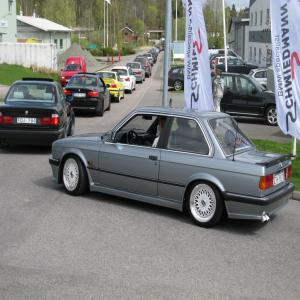Vehicle-registration-plate: (18, 118, 36, 126), (274, 174, 285, 185), (75, 92, 87, 99), (67, 79, 77, 83), (121, 79, 127, 83)
